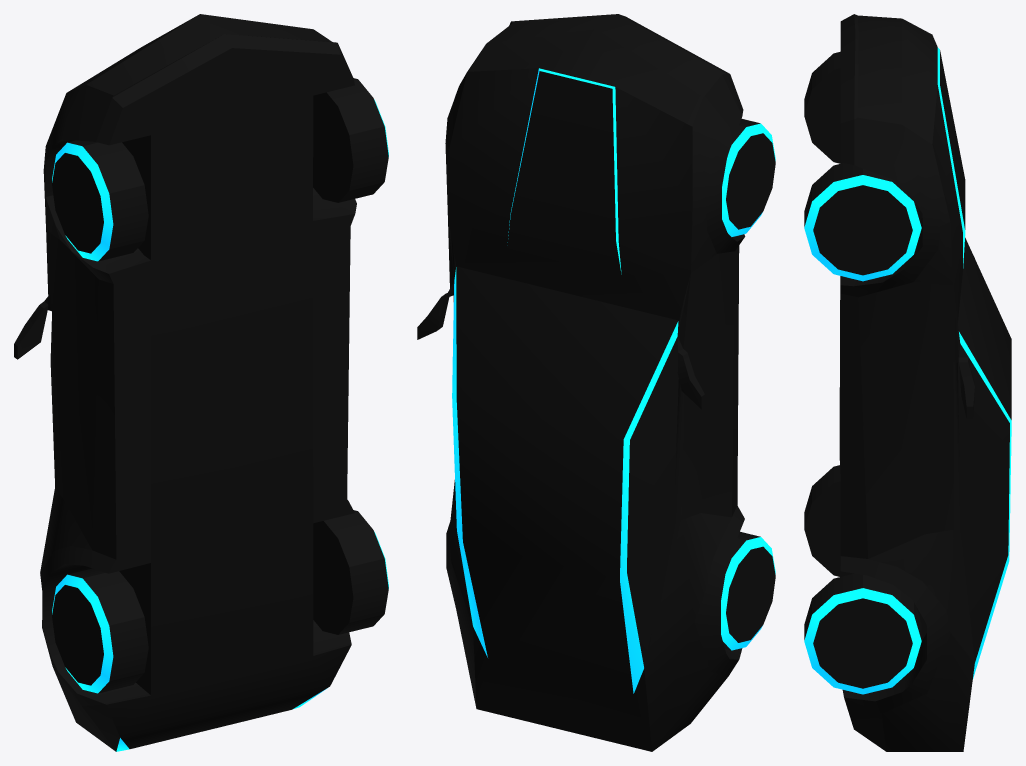
Rendered from CarTraffic.FBX.
The picture shows the model from 3 angles, left to right: view 1: azimuth 30°, elevation 25°; view 2: azimuth 150°, elevation 25°; view 3: azimuth 270°, elevation 25°; orthographic projection. The views are drawn at different scales.
Parts seen in each view (by area): view 1: CC_ME_Body_R4; view 2: CC_ME_Body_R4; view 3: CC_ME_Body_R4.
Boxes of the visible parts, left/top/right/bottom form: CC_ME_Body_R4: left=14, top=14, right=388, bottom=751; CC_ME_Body_R4: left=417, top=14, right=775, bottom=751; CC_ME_Body_R4: left=804, top=14, right=1011, bottom=751.
Size of the model in its own units: 5.14 by 3.25 by 11.73.
